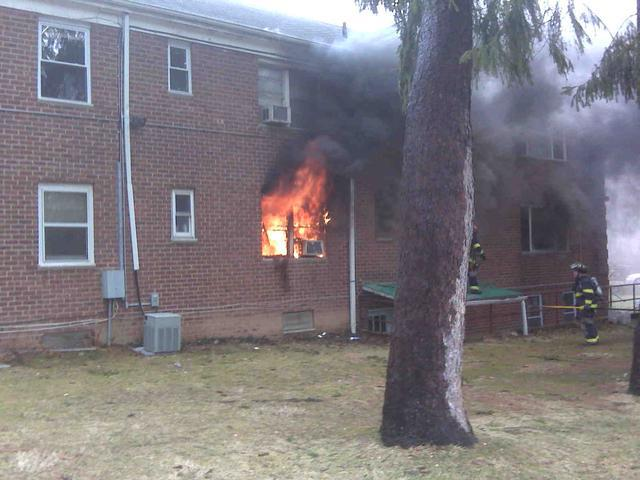fire: (253, 146, 334, 264)
